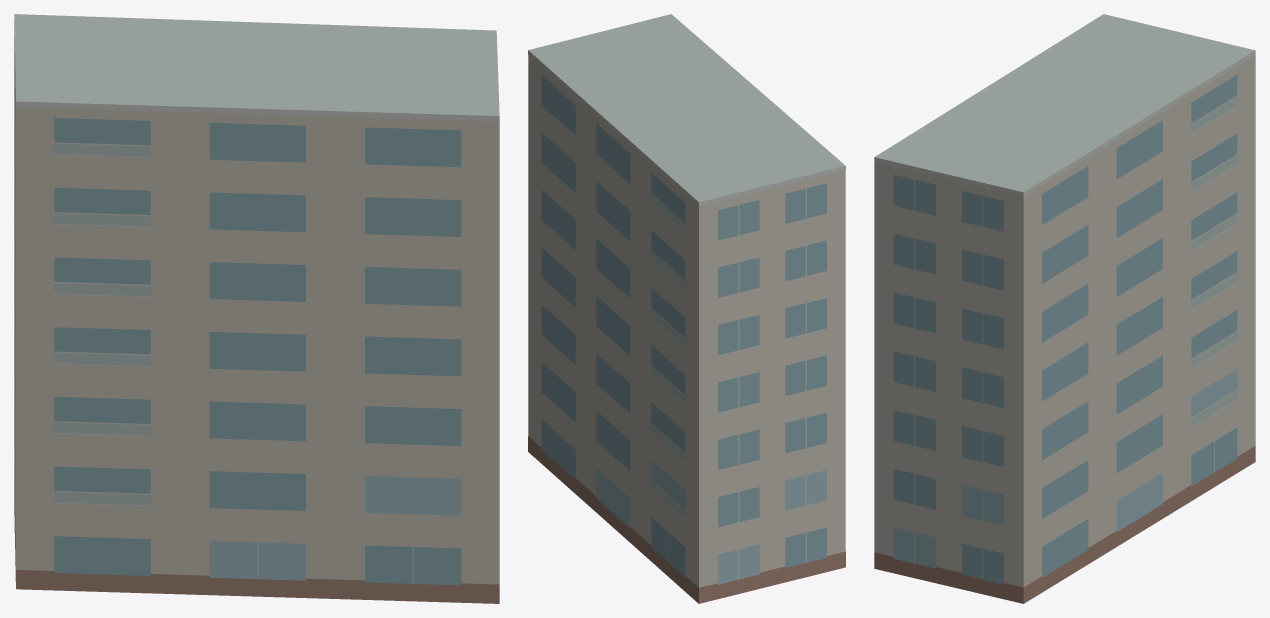
The model's file is survey-upis-33024734.glb.
3 views of the same model, side by side, from view 1: azimuth 30°, elevation 25°; view 2: azimuth 150°, elevation 25°; view 3: azimuth 270°, elevation 25° (orthographic). The views are drawn at different scales.
Parts seen in each view (by area): view 1: survey-upis-33024734.tmp; view 2: survey-upis-33024734.tmp; view 3: survey-upis-33024734.tmp.
Boxes of the visible parts, <box> form: survey-upis-33024734.tmp: <box>14,14,499,603</box>; survey-upis-33024734.tmp: <box>528,14,845,603</box>; survey-upis-33024734.tmp: <box>874,14,1255,603</box>.
Bounding box in the file's own units: 19.9 × 21.4 × 17.98.
